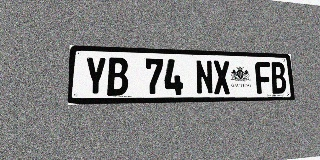4: (164, 59, 183, 95)
7: (144, 58, 164, 95)
B: (107, 57, 128, 96), (270, 62, 287, 94)
F: (255, 62, 272, 94)
N: (195, 60, 214, 95)
X: (213, 60, 231, 94)
Y: (84, 57, 107, 96)
